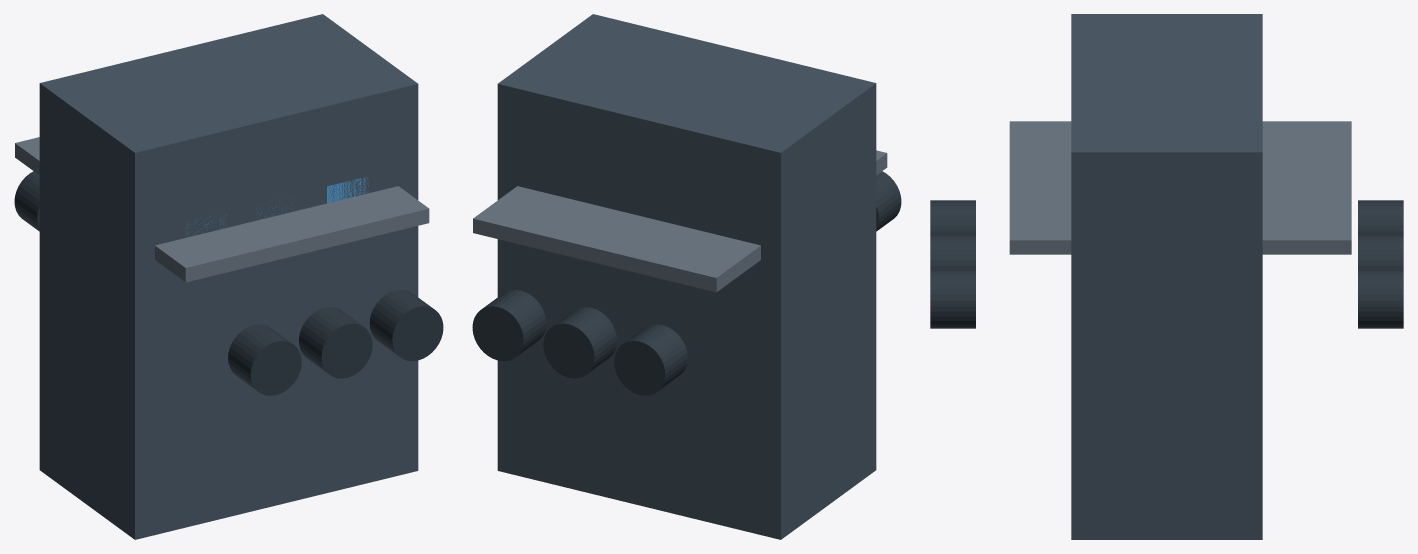
File: motor_breaker.glb
The picture shows the model from 3 angles, left to right: view 1: azimuth 30°, elevation 25°; view 2: azimuth 150°, elevation 25°; view 3: azimuth 270°, elevation 25°; orthographic projection.
Visible parts, largest first — view 1: motor_breaker_0, motor_breaker_1, motor_breaker_6, motor_breaker_3, motor_breaker_9, motor_breaker_4, motor_breaker_11; view 2: motor_breaker_0, motor_breaker_1, motor_breaker_7, motor_breaker_4, motor_breaker_10, motor_breaker_3; view 3: motor_breaker_0, motor_breaker_1, motor_breaker_9, motor_breaker_10, motor_breaker_3, motor_breaker_4, motor_breaker_6, motor_breaker_7.
Part boxes in pixels (x1,y1,x2,y2): motor_breaker_0: (39, 14, 418, 539); motor_breaker_1: (15, 137, 429, 282); motor_breaker_6: (299, 307, 372, 378); motor_breaker_3: (228, 324, 301, 395); motor_breaker_9: (369, 289, 443, 361); motor_breaker_4: (14, 171, 39, 231); motor_breaker_11: (327, 177, 368, 203); motor_breaker_0: (497, 14, 876, 539); motor_breaker_1: (473, 150, 887, 292); motor_breaker_7: (543, 307, 616, 378); motor_breaker_4: (614, 324, 687, 395); motor_breaker_10: (472, 289, 546, 361); motor_breaker_3: (876, 171, 901, 231); motor_breaker_0: (1071, 14, 1262, 539); motor_breaker_1: (1009, 121, 1351, 254); motor_breaker_9: (930, 269, 975, 328); motor_breaker_10: (1358, 269, 1403, 328); motor_breaker_3: (930, 200, 975, 234); motor_breaker_4: (1358, 200, 1403, 234); motor_breaker_6: (930, 235, 975, 269); motor_breaker_7: (1358, 235, 1403, 269).
Bounding box in the file's own units: 0.72 × 0.94 × 1.04.
